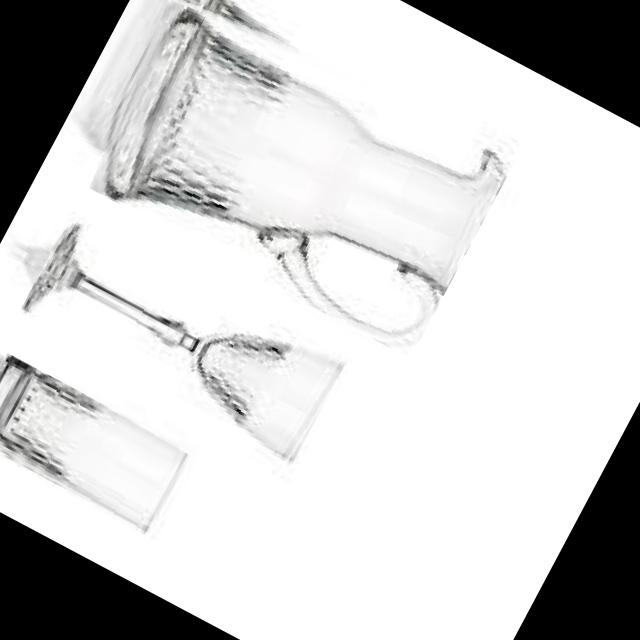Glass: (71, 0, 525, 358), (13, 210, 350, 467), (0, 352, 191, 535)
